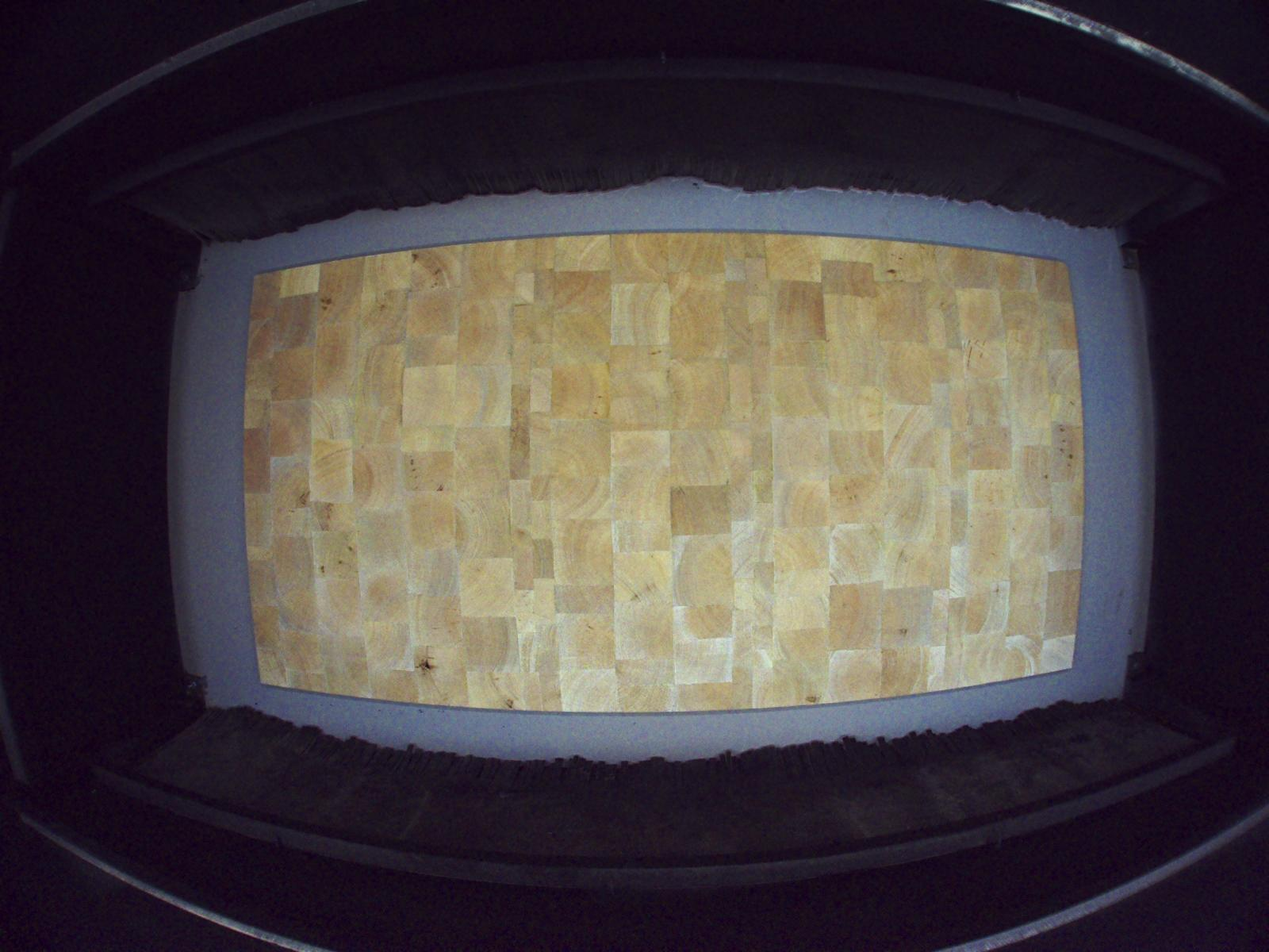sheck_ecuatoriano: (414, 645, 450, 705)
